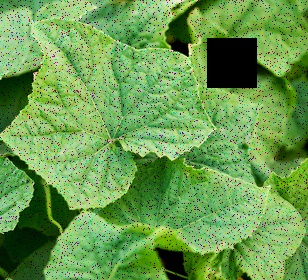cucumber_plant: (7, 14, 271, 280)
